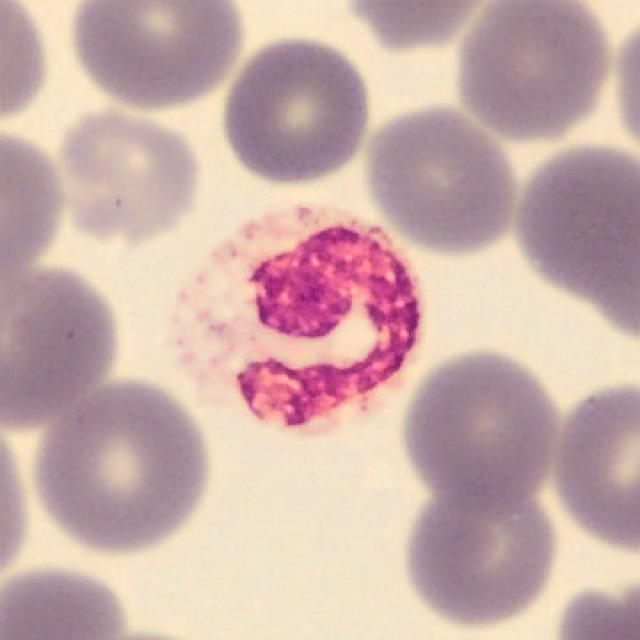Neutrofilo segmentado: (169, 206, 425, 441)
